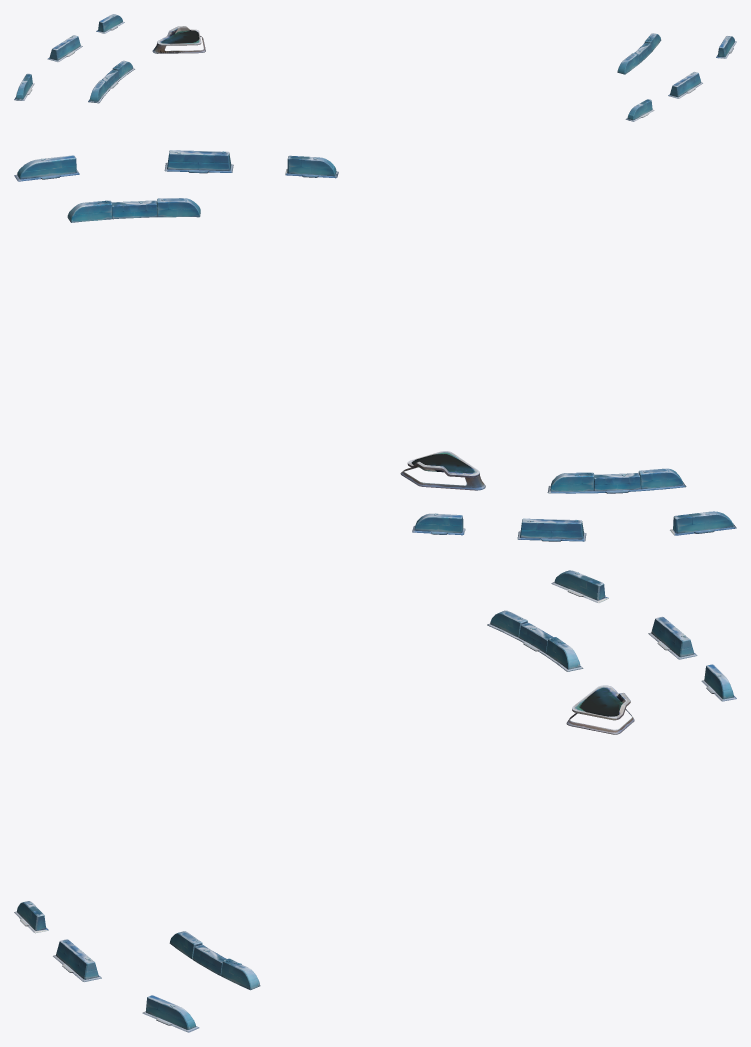
The model's file is pref_sm_beach_winter_bakegroups01_lv2.fbx.
3 views of the same model, one above another, from view 1: azimuth 30°, elevation 25°; view 2: azimuth 150°, elevation 25°; view 3: azimuth 270°, elevation 25° (orthographic). The views are drawn at different scales.
Parts seen in each view (by area): view 1: sm_beach_winter_bakegroups01_a_lv2, sm_beach_winter_bakegroups01_c_lv2; view 2: sm_beach_winter_bakegroups01_a_lv2, sm_beach_winter_bakegroups01_c_lv2; view 3: sm_beach_winter_bakegroups01_a_lv2, sm_beach_winter_bakegroups01_c_lv2.
Boxes of the visible parts, <box> form: sm_beach_winter_bakegroups01_a_lv2: <box>14,14,205,103</box>; sm_beach_winter_bakegroups01_c_lv2: <box>617,33,736,121</box>; sm_beach_winter_bakegroups01_a_lv2: <box>400,451,736,541</box>; sm_beach_winter_bakegroups01_c_lv2: <box>14,150,338,222</box>; sm_beach_winter_bakegroups01_a_lv2: <box>487,570,736,734</box>; sm_beach_winter_bakegroups01_c_lv2: <box>14,901,260,1032</box>.
Size of the model in its own units: 108 by 2.13 by 73.04.
